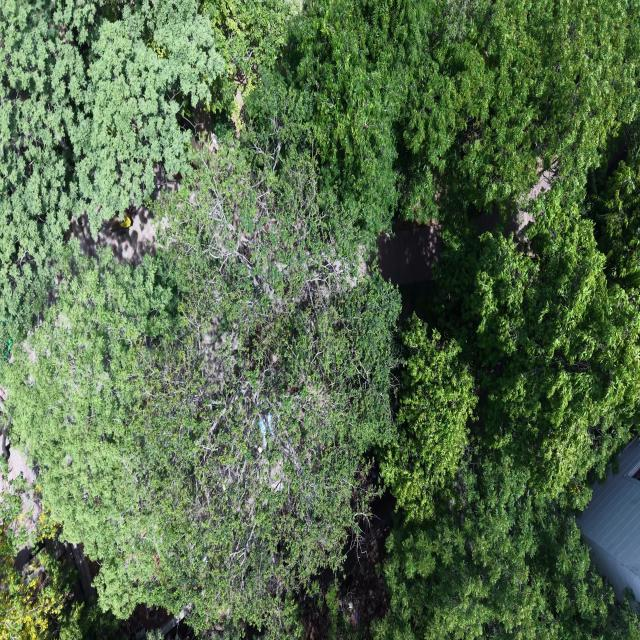ROOFTOP_BUILDING: (577, 439, 639, 601)
VEGETATION_TREE: (0, 0, 639, 639), (3, 144, 399, 630), (375, 189, 639, 638), (0, 0, 293, 339), (293, 0, 638, 232), (0, 0, 224, 331), (437, 189, 639, 508), (394, 0, 638, 217), (375, 450, 639, 639), (381, 316, 477, 520), (0, 493, 117, 639), (0, 478, 70, 639), (590, 135, 639, 290), (0, 531, 70, 639)
